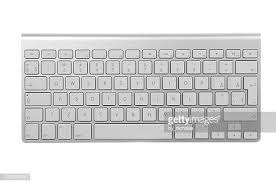keyboard: (22, 33, 259, 143)
